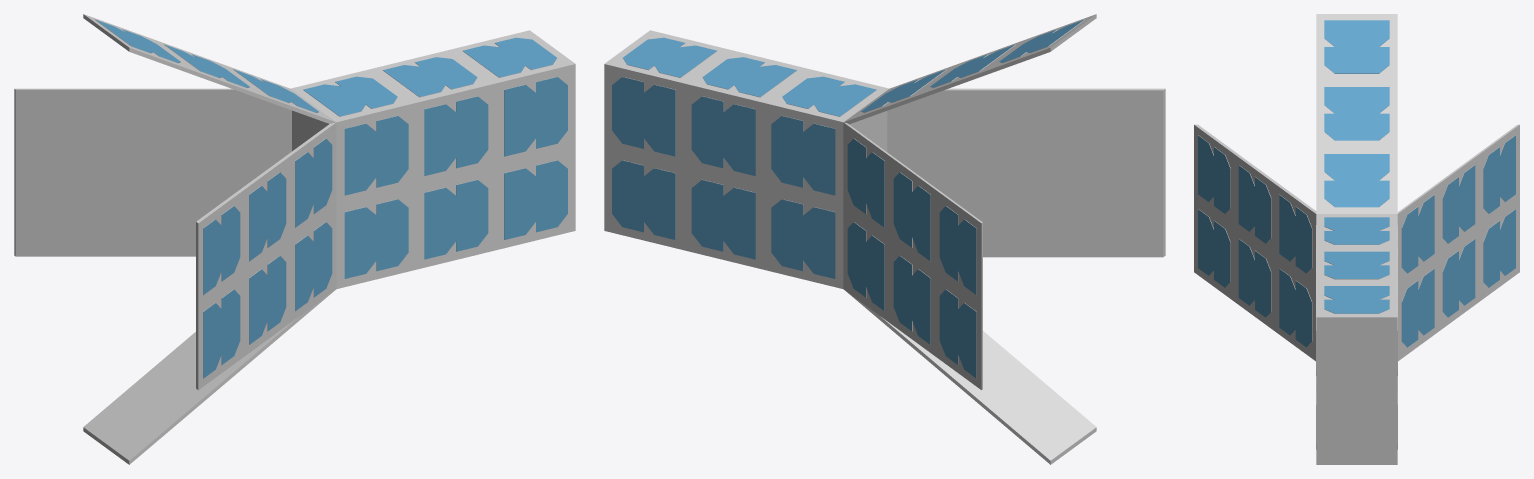
The model's file is 6UDart_SP8Sides.dae.
The picture shows the model from 3 angles, left to right: view 1: azimuth 30°, elevation 25°; view 2: azimuth 150°, elevation 25°; view 3: azimuth 270°, elevation 25°; orthographic projection. The views are drawn at different scales.
Visible parts, largest first — view 1: _UDart_SP8Sides, Y_Minus_Cells, Z_Plus_Cells; view 2: _UDart_SP8Sides, Y_Plus_Cells, Z_Plus_Cells; view 3: _UDart_SP8Sides, Z_Plus_Cells, Y_Plus_Cells, Y_Minus_Cells.
Part boxes in pixels (box(x1,y1,x2,y2)): _UDart_SP8Sides: box(14, 14, 575, 464); Y_Minus_Cells: box(203, 77, 567, 378); Z_Plus_Cells: box(96, 20, 556, 116); _UDart_SP8Sides: box(604, 14, 1165, 464); Y_Plus_Cells: box(612, 77, 976, 378); Z_Plus_Cells: box(623, 20, 1083, 116); _UDart_SP8Sides: box(1194, 14, 1519, 464); Z_Plus_Cells: box(1324, 20, 1389, 313); Y_Plus_Cells: box(1402, 135, 1515, 347); Y_Minus_Cells: box(1198, 135, 1311, 347).
Size of the model in its own units: 0.5598 by 0.4 by 0.5.
